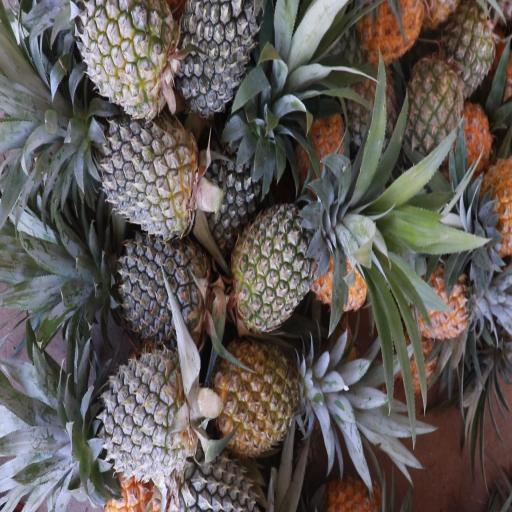------------------------------: (235, 202, 334, 325), (84, 0, 171, 122), (216, 339, 308, 453), (402, 59, 467, 163)
Pineapple - v8 v1: (356, 0, 424, 70)
